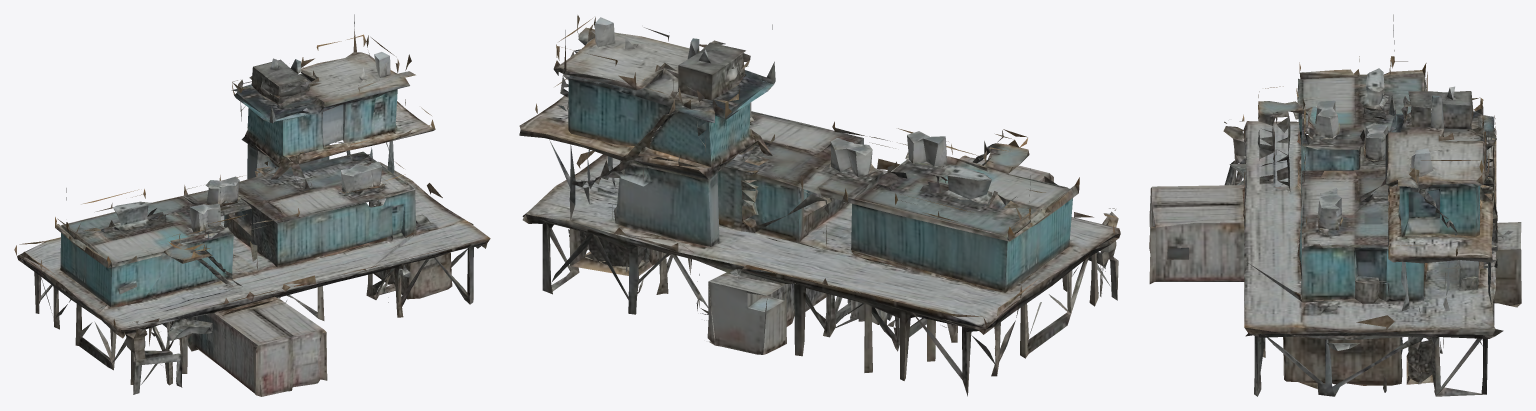
File: fuel_depot.glb
3 views of the same model, side by side, from view 1: azimuth 30°, elevation 25°; view 2: azimuth 150°, elevation 25°; view 3: azimuth 270°, elevation 25° (orthographic). The views are drawn at different scales.
Parts seen in each view (by area): view 1: fuel_depot; view 2: fuel_depot; view 3: fuel_depot.
Boxes of the visible parts, bbox=[...] form: fuel_depot: bbox=[14, 14, 490, 396]; fuel_depot: bbox=[519, 15, 1120, 396]; fuel_depot: bbox=[1149, 14, 1521, 396].
Bounding box in the file's own units: 1.9 × 1.06 × 1.39.
Materials: 1 (1 with a texture image).
